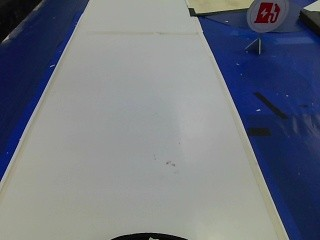battery: (244, 0, 285, 31)
